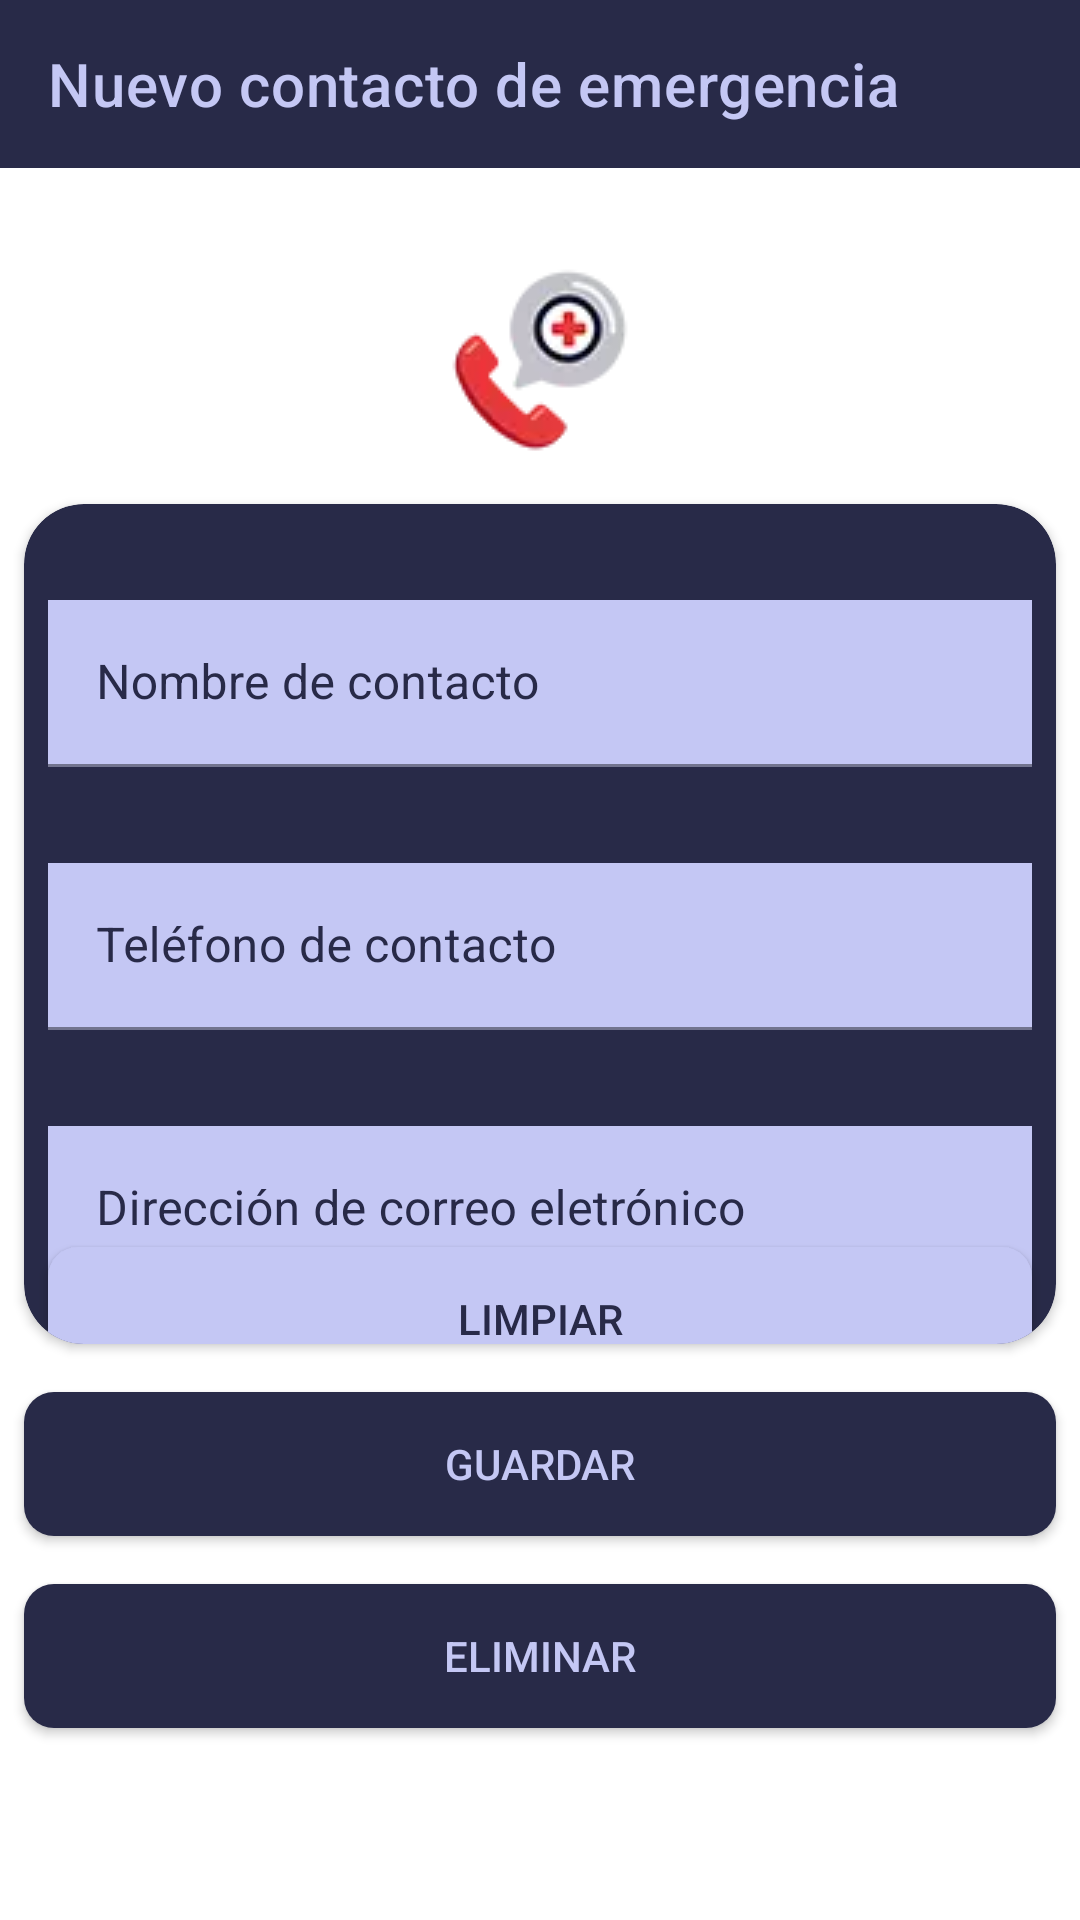

Icon bounding boxes for this 1080x1920 phone screenshot, format box=[x1, y1, x2, y2]:
emergy contact: box=[453, 272, 625, 451]
